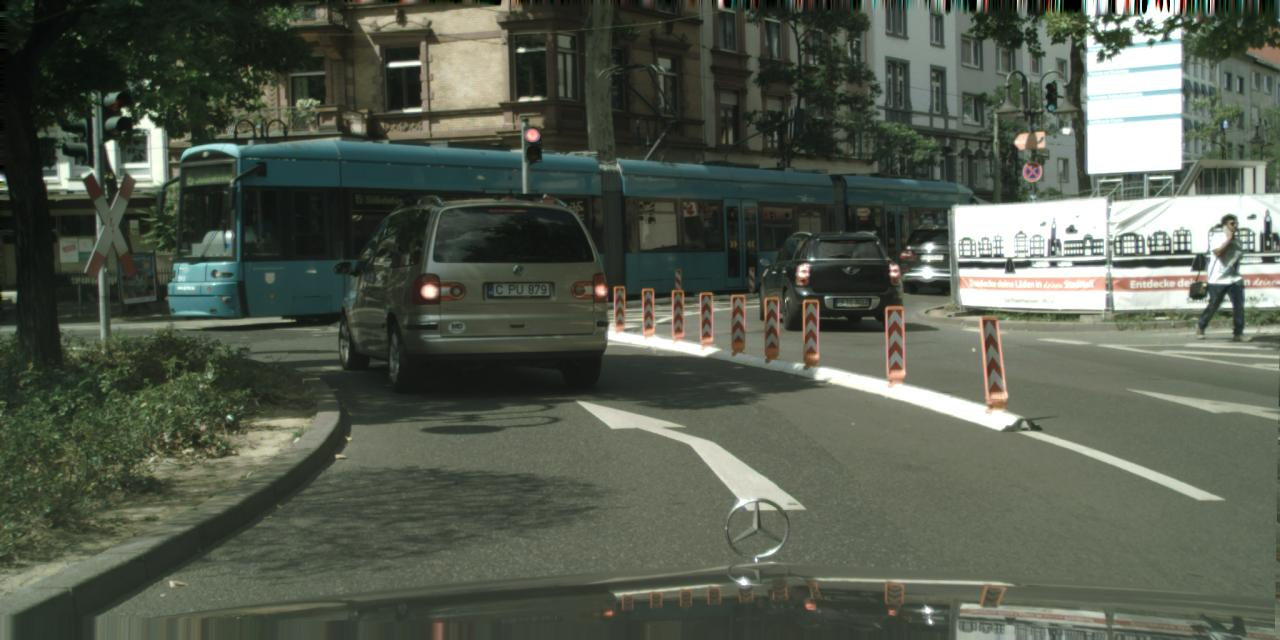ped: (1198, 212, 1250, 340)
